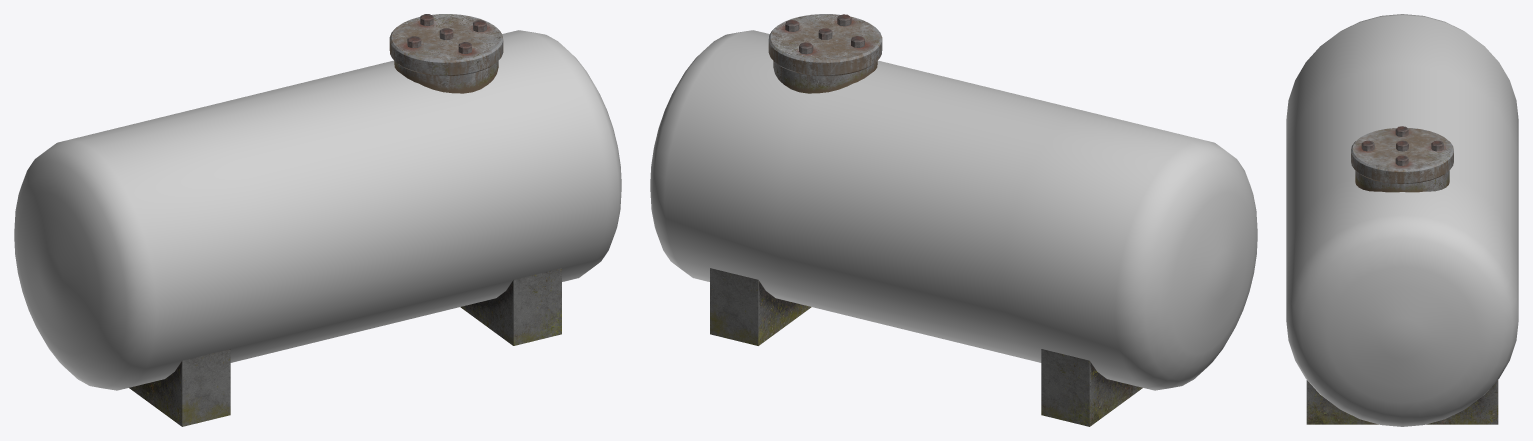
The model's file is Corrosive_Materials_Storage_Tank.fbx.
The picture shows the model from 3 angles, left to right: view 1: azimuth 30°, elevation 25°; view 2: azimuth 150°, elevation 25°; view 3: azimuth 270°, elevation 25°; orthographic projection. The views are drawn at different scales.
Visible parts, largest first — view 1: Corrosive_Materials_Bulk_Tank; view 2: Corrosive_Materials_Bulk_Tank; view 3: Corrosive_Materials_Bulk_Tank.
Boxes of the visible parts, <box> form: Corrosive_Materials_Bulk_Tank: <box>14,14,621,426</box>; Corrosive_Materials_Bulk_Tank: <box>650,14,1257,426</box>; Corrosive_Materials_Bulk_Tank: <box>1286,14,1518,426</box>.
Size of the model in its own units: 577 by 288 by 239.
